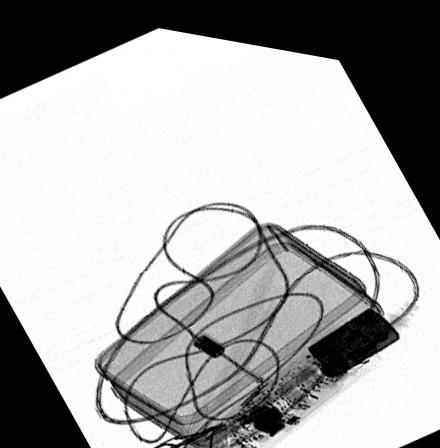Lighter: (305, 291, 400, 365)
